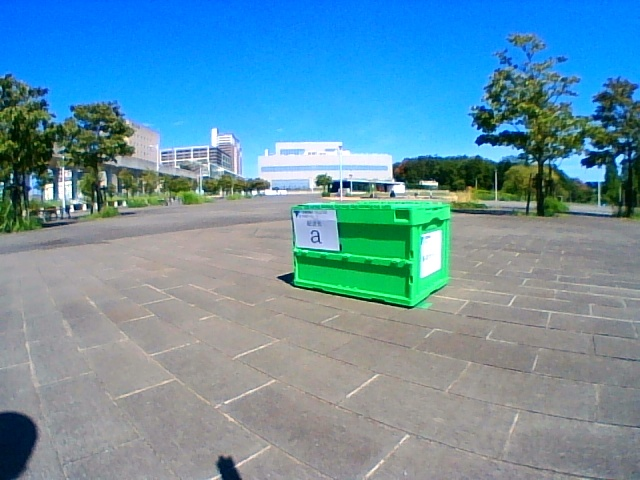green_box: (290, 200, 449, 309)
tag_a: (296, 211, 336, 247)
